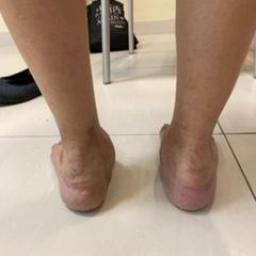Back View -Both Feet-: (36, 98, 236, 226)
